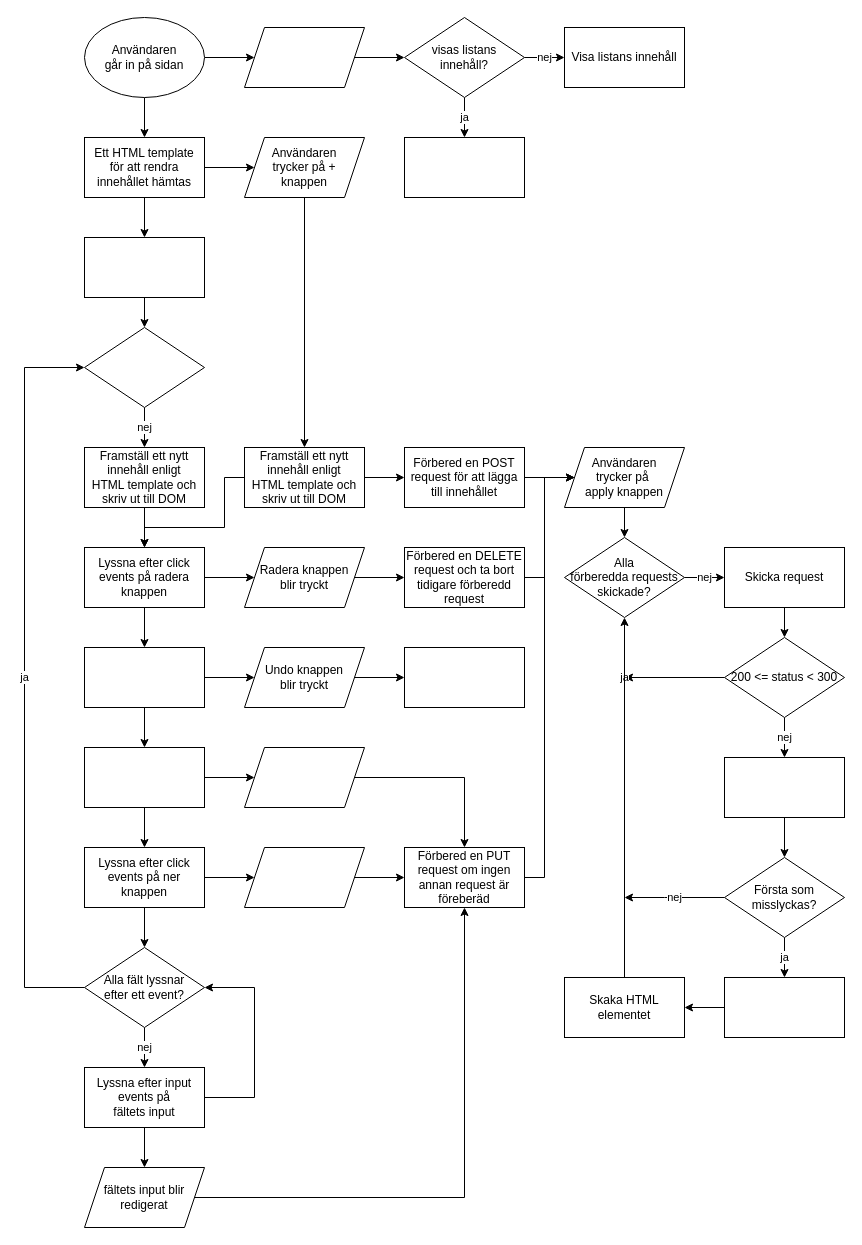
This 862x1245 diagram has some shape labels left out. The box of each missing label's shape, as (x1, y1, x2, y2) in pixels:
Allt innehåll hämntas från webbtjänsten: (84, 236, 204, 298)
Allt innehåll utskrivet?: (84, 326, 204, 408)
Användaren trycker på toggle knappen: (244, 26, 364, 88)
Dölj listans innehåll: (404, 136, 524, 198)
Lyssna efter click events för upp knappen: (84, 746, 204, 808)
Lyssna efter click events på undo knappen: (84, 646, 204, 708)
Ner knappen blir tryckt: (244, 846, 364, 908)
Scrolla till detta HTML element i DOM: (724, 976, 844, 1038)
Skriv ut error till DOM: (724, 756, 844, 818)
Upp knappen blir tryckt: (244, 746, 364, 808)
Återställ alla fält till sitt ursprungliga tillstånd: (404, 646, 524, 708)
